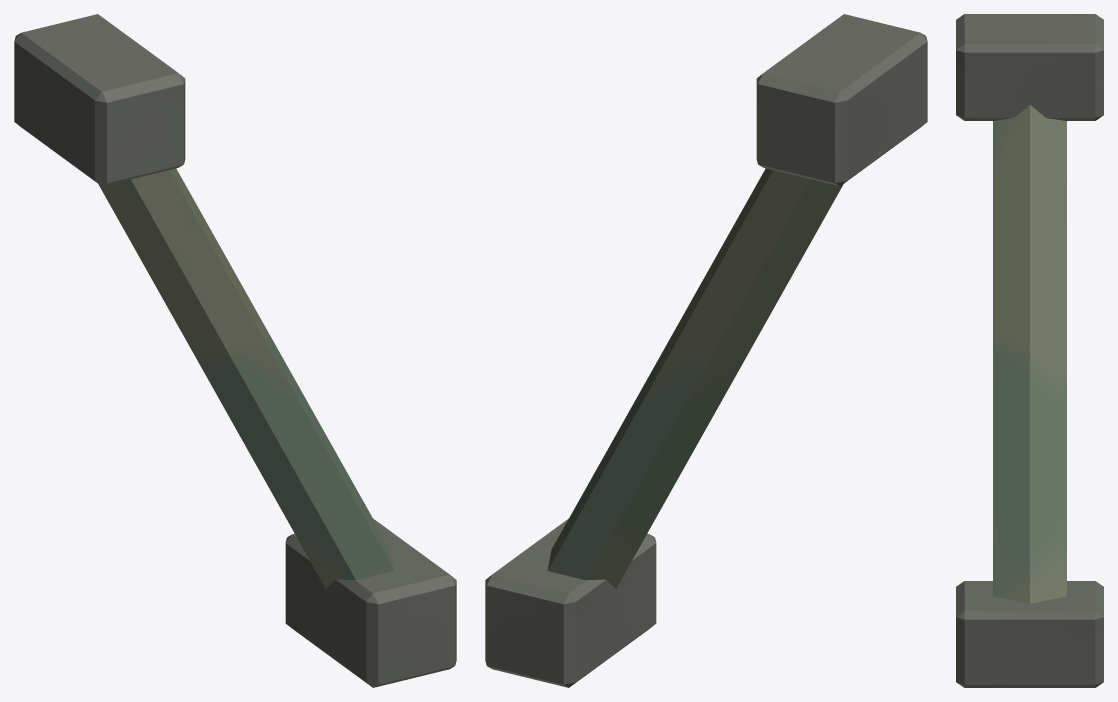
Rendered from WarrensC_PWC04_PumpDiagonalBrace_Mars_SM.fbx.
3 renders of one model, left to right at view 1: azimuth 30°, elevation 25°; view 2: azimuth 150°, elevation 25°; view 3: azimuth 270°, elevation 25°, orthographic. The views are drawn at different scales.
Parts seen in each view (by area): view 1: WarrensC_PWC04_PumpDiagonalBrace_Mars_SM.001; view 2: WarrensC_PWC04_PumpDiagonalBrace_Mars_SM.001; view 3: WarrensC_PWC04_PumpDiagonalBrace_Mars_SM.001.
Part boxes in pixels (x1=…): WarrensC_PWC04_PumpDiagonalBrace_Mars_SM.001: x1=14, y1=14, x2=456, y2=687; WarrensC_PWC04_PumpDiagonalBrace_Mars_SM.001: x1=485, y1=14, x2=927, y2=687; WarrensC_PWC04_PumpDiagonalBrace_Mars_SM.001: x1=956, y1=14, x2=1103, y2=687.
Bounding box in the file's own units: 80 × 35 × 140.
